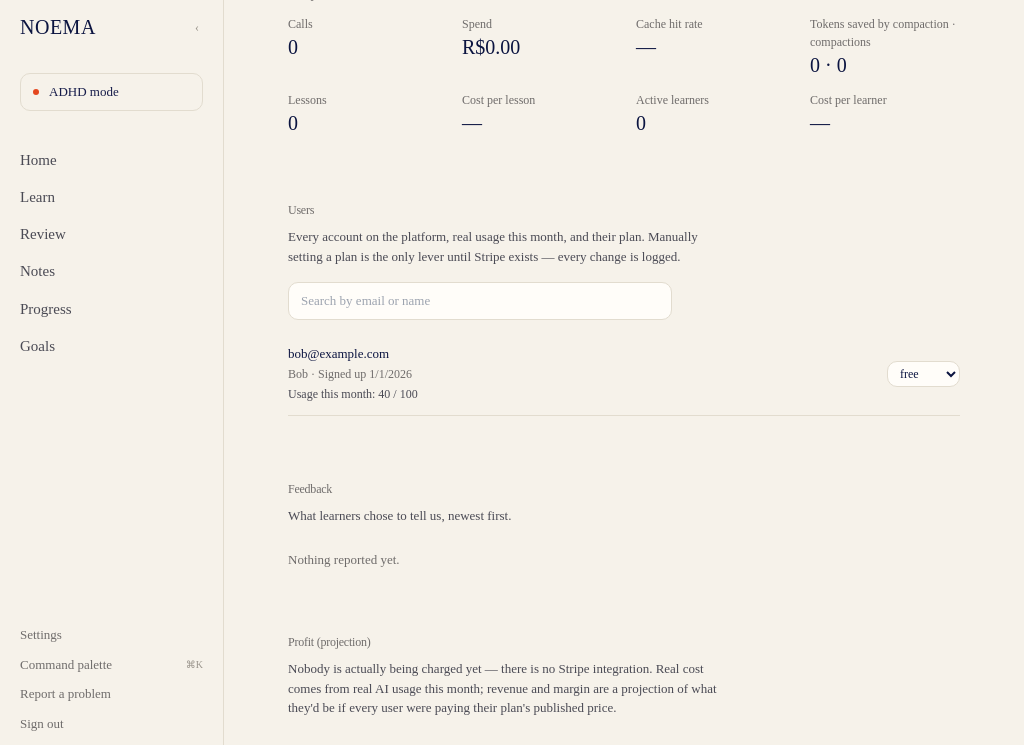
Test: AdminPage › shows a retryable error when a plan change fails, and keeps the old plan
(page scrolled)
Expected: the text "bob@example.com" is shown, x1=288 y1=346 x2=389 y2=361
Select "pro" in the dropdown showing "free". click: (924, 374)
box: x1=887 y1=361 x2=960 y2=387
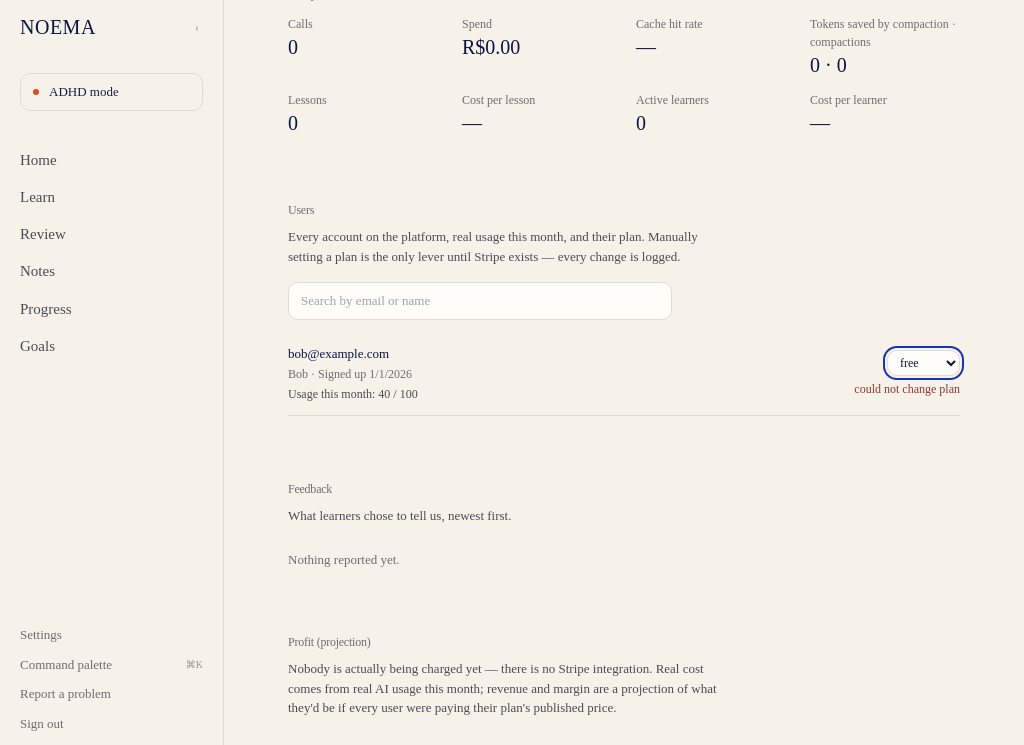
Now the text "could not change plan" is shown, box x1=854 y1=380 x2=960 y2=398
